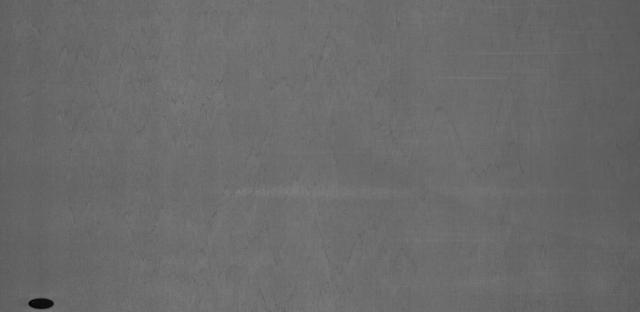punching_hole: (25, 294, 62, 312)
